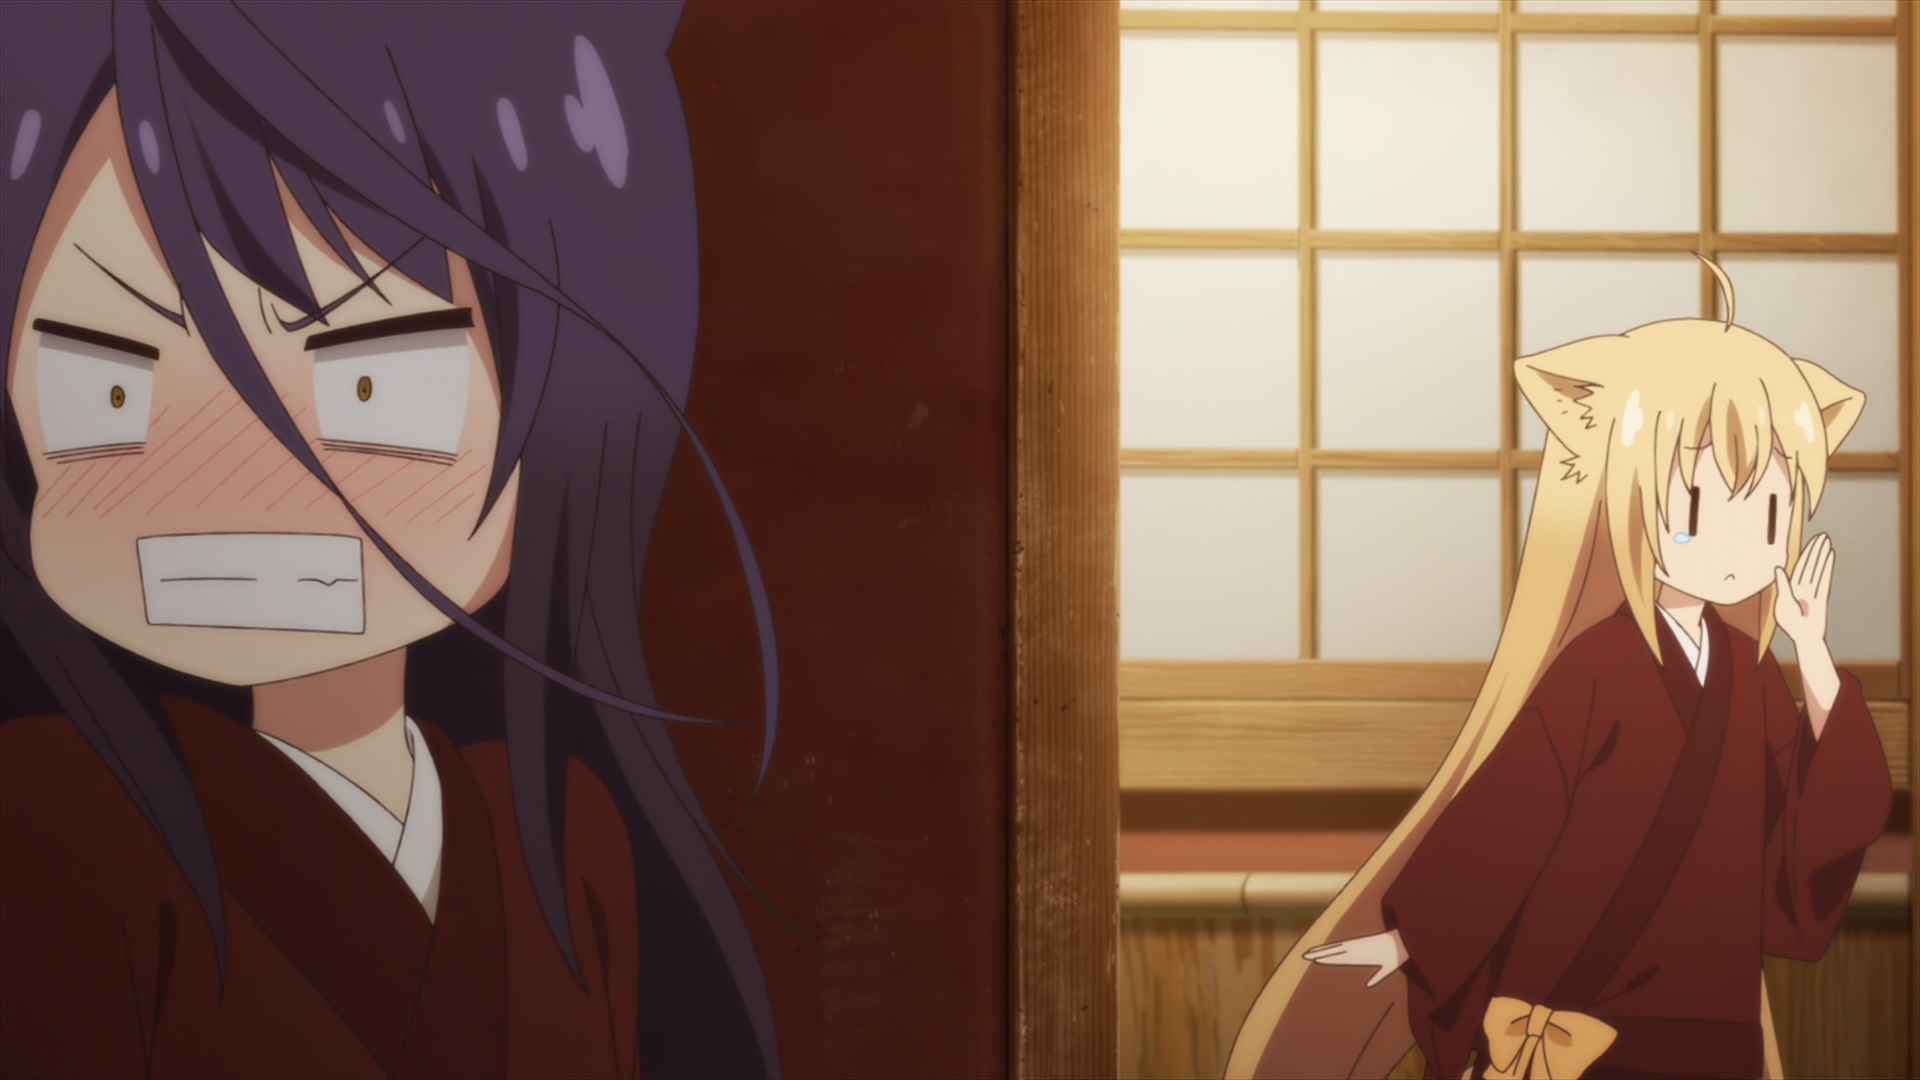柚: (1222, 252, 1888, 1080)
皋: (1, 1, 841, 1080)
